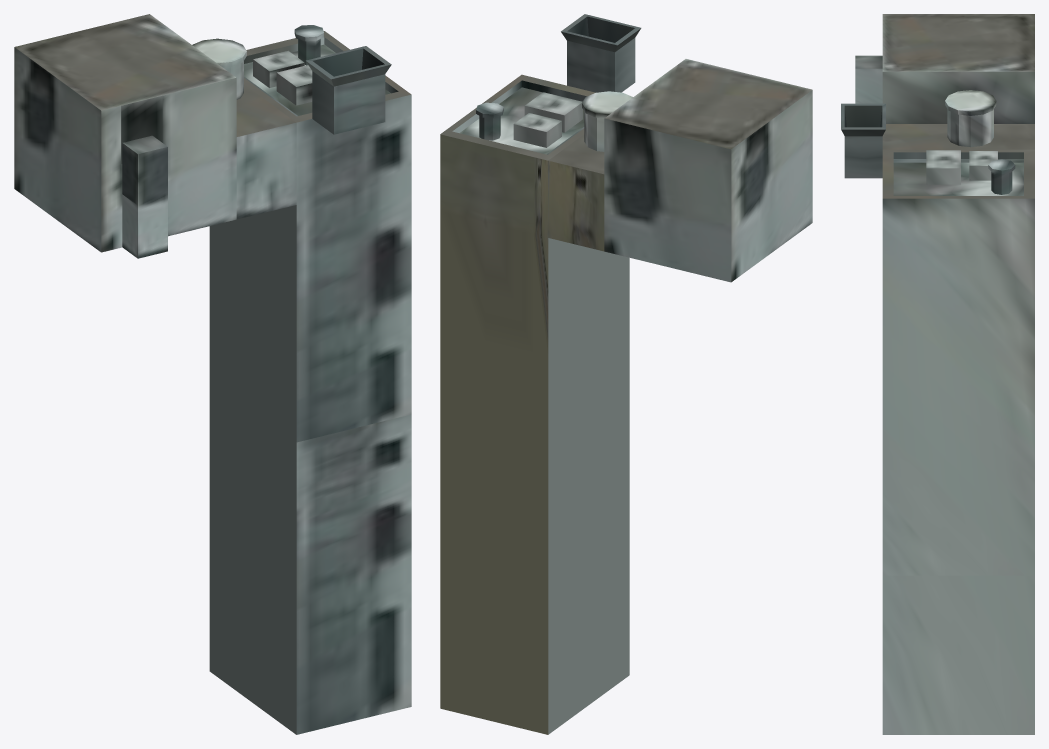
3 views of the same model, side by side, from view 1: azimuth 30°, elevation 25°; view 2: azimuth 150°, elevation 25°; view 3: azimuth 270°, elevation 25° (orthographic). The views are drawn at different scales.
Parts seen in each view (by area): view 1: hospitaltechopiezita.026; view 2: hospitaltechopiezita.026; view 3: hospitaltechopiezita.026.
Boxes of the visible parts, <box> form: hospitaltechopiezita.026: <box>14,14,411,734</box>; hospitaltechopiezita.026: <box>440,14,812,734</box>; hospitaltechopiezita.026: <box>841,14,1034,734</box>.
Bounding box in the file's own units: 1.43 × 2.95 × 0.8808.
2 materials, 2 textured.
